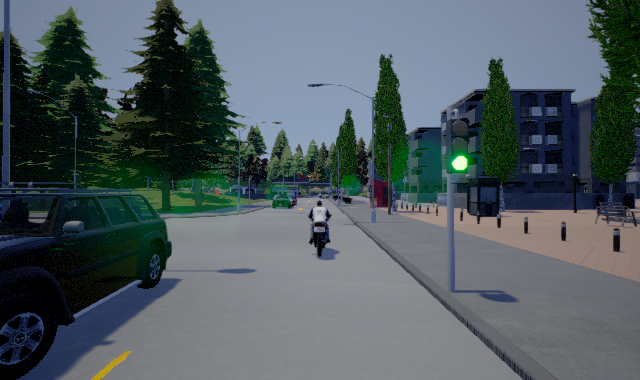motobike: (308, 199, 331, 259)
traffic_light: (446, 109, 470, 184)
vehicle: (1, 182, 172, 380), (271, 192, 297, 209)
